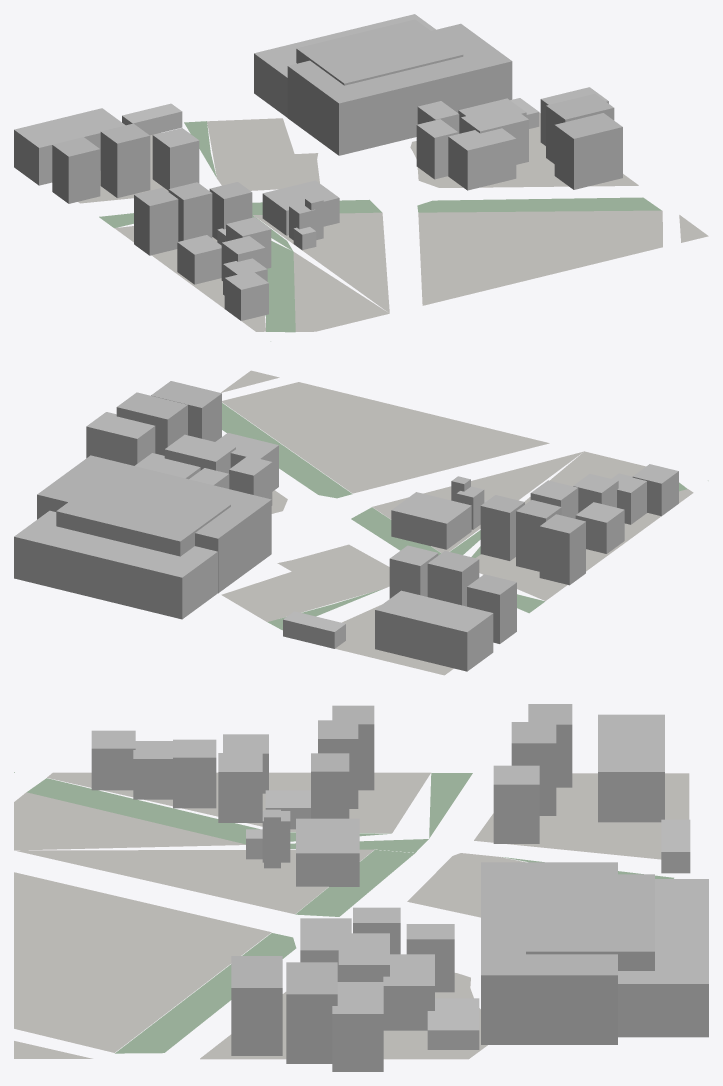
File: 105_92_mid.glb
3 renders of one model, top to bottom at view 1: azimuth 30°, elevation 25°; view 2: azimuth 150°, elevation 25°; view 3: azimuth 270°, elevation 25°, orthographic. The views are drawn at different scales.
Size of the model in its own units: 536 by 60.2 by 515.
